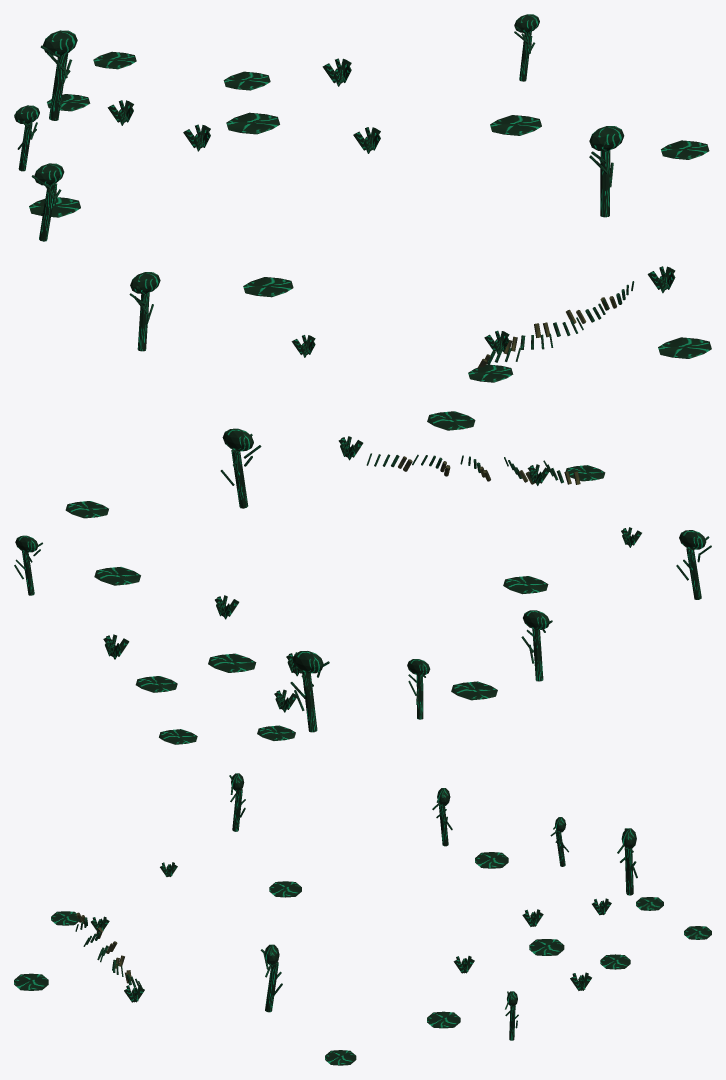
File: planet_flora_field_v2.glb
The picture shows the model from 3 angles, top to bottom: view 1: azimuth 30°, elevation 25°; view 2: azimuth 150°, elevation 25°; view 3: azimuth 270°, elevation 25°; orthographic projection. The views are drawn at different scales.
Parts seen in each view (by area): view 1: m.006, m.005, m.003, m.007, m.008, c.005, m.001, c.002, t.005, t.002, m.002, m.004 (+1 smaller); view 2: m.005, m.006, m.002, m.003, m.007, m.008, c.002, c.005, t.002, m.001, t.005; view 3: m.005, m.006, m.002, m.003.
Part boxes in pixels (bbox=[...]): m.006: bbox=[226, 112, 279, 134]; m.005: bbox=[658, 337, 711, 358]; m.003: bbox=[490, 115, 541, 135]; m.007: bbox=[243, 277, 293, 297]; m.008: bbox=[661, 140, 709, 159]; c.005: bbox=[589, 126, 624, 151]; m.001: bbox=[223, 71, 270, 90]; c.002: bbox=[42, 30, 77, 55]; t.005: bbox=[600, 150, 610, 217]; t.002: bbox=[49, 53, 68, 120]; m.002: bbox=[29, 197, 80, 217]; m.004: bbox=[468, 364, 513, 382]; m.005: bbox=[427, 411, 475, 430]; m.006: bbox=[208, 653, 256, 672]; m.002: bbox=[451, 681, 497, 700]; m.003: bbox=[94, 567, 140, 585]; m.007: bbox=[503, 576, 548, 594]; m.008: bbox=[65, 501, 108, 518]; c.002: bbox=[292, 651, 323, 673]; c.005: bbox=[222, 428, 253, 451]; t.002: bbox=[302, 671, 317, 732]; m.001: bbox=[135, 676, 177, 692]; t.005: bbox=[231, 449, 248, 508]; m.005: bbox=[14, 973, 48, 990]; m.006: bbox=[529, 939, 564, 955]; m.002: bbox=[475, 852, 508, 868]; m.003: bbox=[427, 1011, 460, 1028].
Bounding box in the file's own units: 83.01 × 11.33 × 102.
2 materials, 2 textured.
